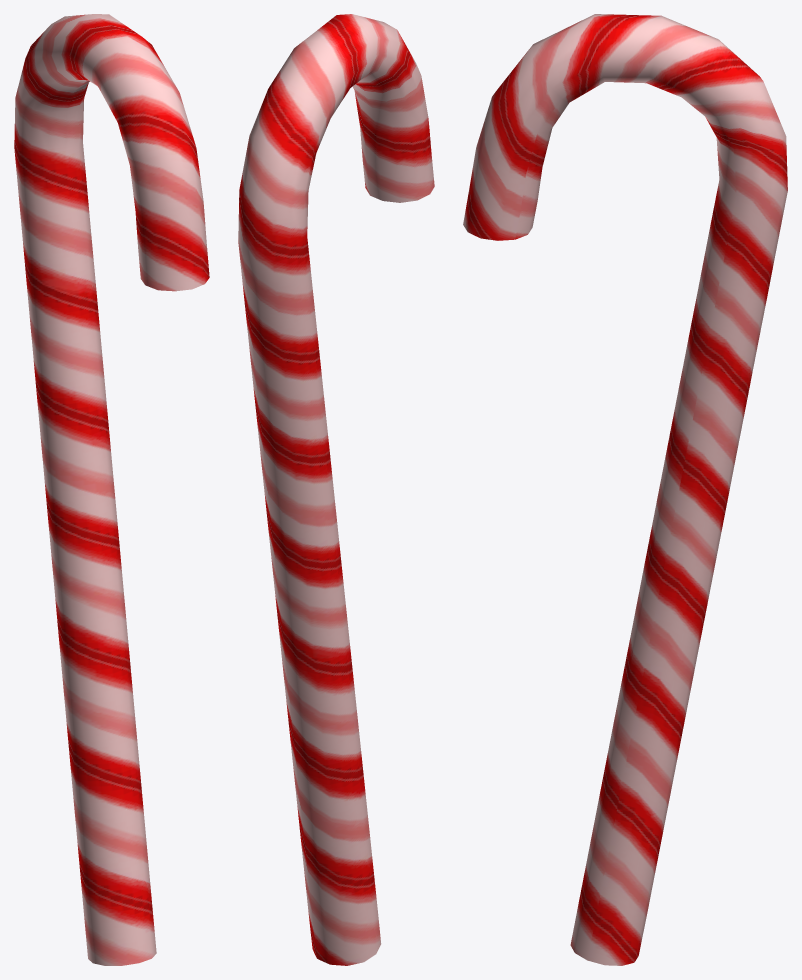
Rendered from candycane.fbx.
3 renders of one model, left to right at view 1: azimuth 30°, elevation 25°; view 2: azimuth 150°, elevation 25°; view 3: azimuth 270°, elevation 25°, orthographic.
Visible parts, largest first — view 1: candystick; view 2: candystick; view 3: candystick.
Part boxes in pixels (x1,y1,x2,y2): candystick: [14, 14, 209, 965]; candystick: [238, 14, 434, 965]; candystick: [463, 14, 787, 965].
Bounding box in the file's own units: 3.4 × 50.64 × 15.88.
Materials: 1 (1 with a texture image).
